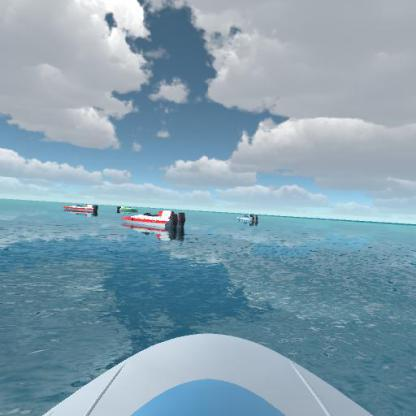usv0: (117, 201, 140, 216)
usv1: (237, 209, 263, 227)
usv3: (122, 208, 188, 241), (64, 200, 102, 219)
